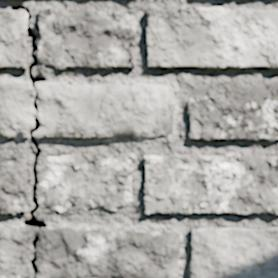brick: (144, 153, 277, 214), (146, 8, 277, 69), (37, 7, 136, 69), (39, 153, 135, 211), (187, 82, 277, 141), (189, 228, 277, 277), (0, 154, 27, 214), (0, 11, 27, 69), (145, 7, 183, 26), (131, 40, 134, 52)
broken_brick: (0, 226, 180, 277), (34, 81, 175, 140), (0, 80, 34, 139)
crack: (0, 2, 46, 275), (145, 6, 200, 48), (113, 30, 135, 67)
